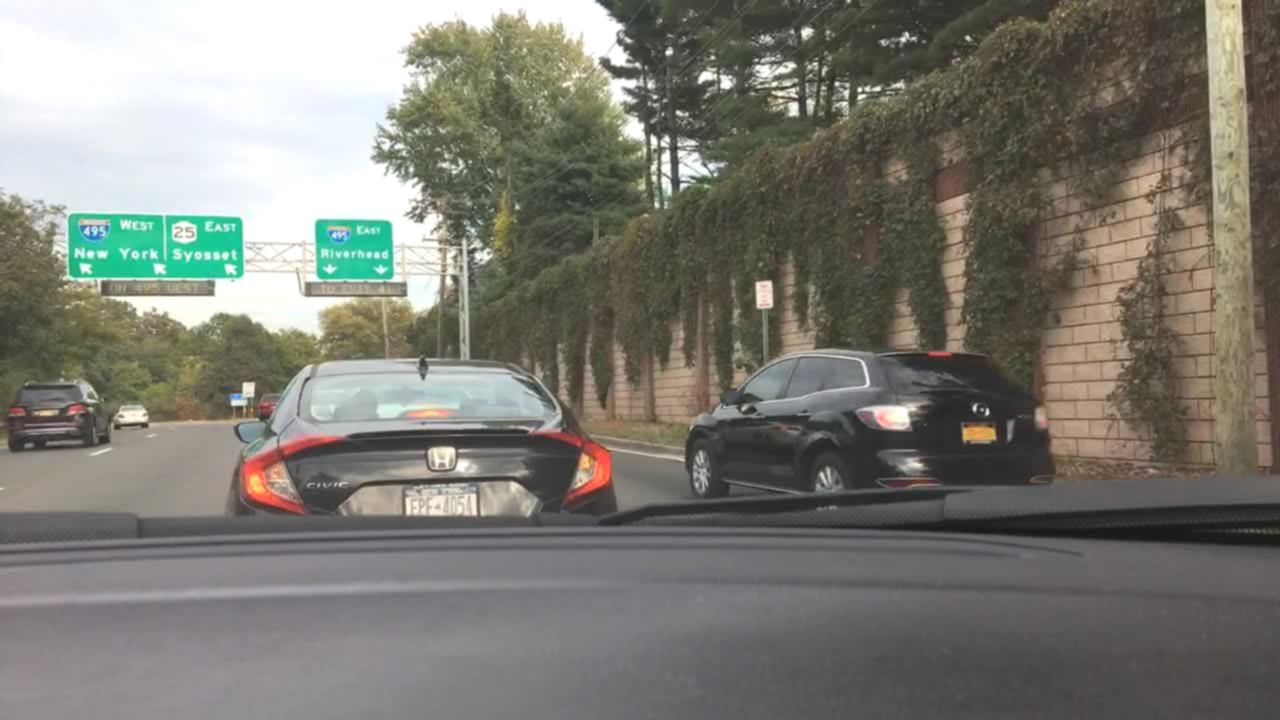Honda: (420, 429, 479, 478)
Mazda: (958, 396, 998, 422)
